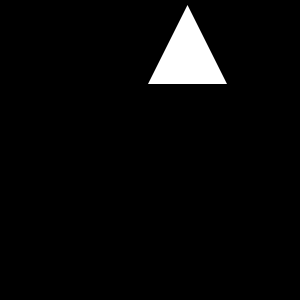triangle: (148, 5, 227, 84)
